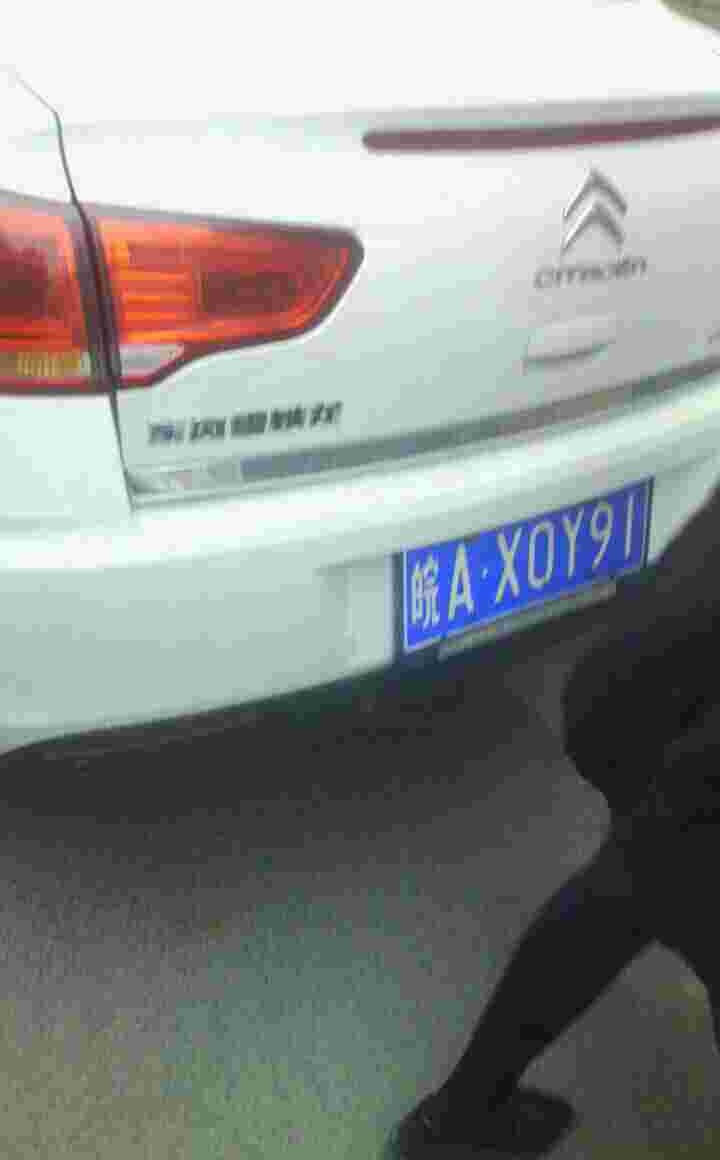car: (386, 530, 665, 634)
